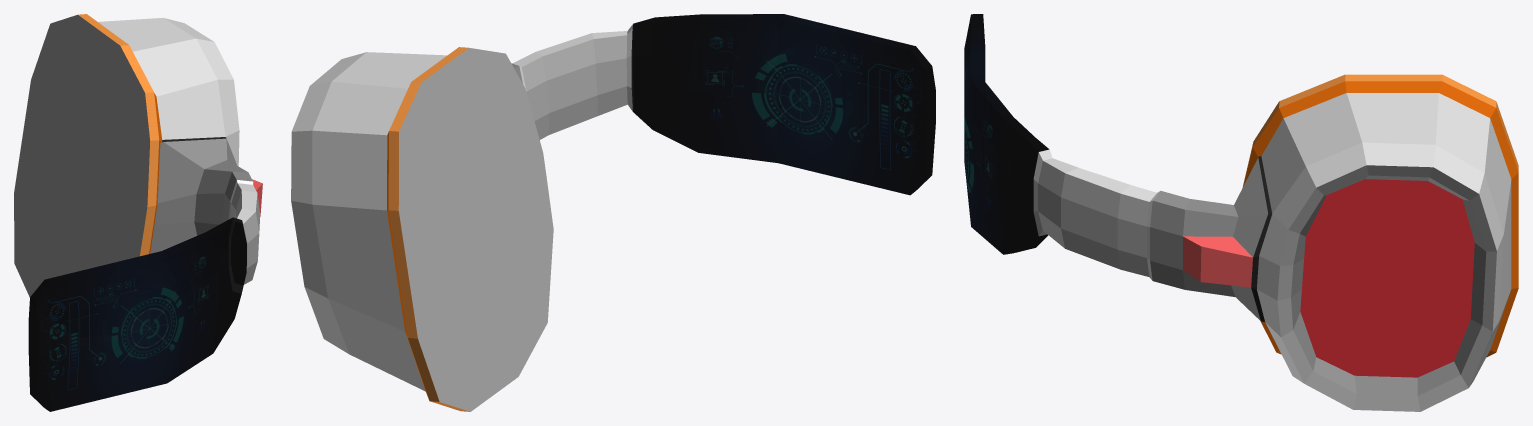
Rendered from Eyewear_CyborgMonocle.glb.
The picture shows the model from 3 angles, left to right: view 1: azimuth 30°, elevation 25°; view 2: azimuth 150°, elevation 25°; view 3: azimuth 270°, elevation 25°; orthographic projection. The views are drawn at different scales.
Visible parts, largest first — view 1: Eyerwear_CyborgMonocle; view 2: Eyerwear_CyborgMonocle; view 3: Eyerwear_CyborgMonocle.
Part boxes in pixels (left/top/right/bottom): Eyerwear_CyborgMonocle: left=14, top=14, right=262, bottom=411; Eyerwear_CyborgMonocle: left=291, top=14, right=935, bottom=411; Eyerwear_CyborgMonocle: left=964, top=14, right=1518, bottom=411.
Size of what is drawn, in the model's own units: 0.4691 by 0.3601 by 0.5582.
Materials: 2 (2 with a texture image).
